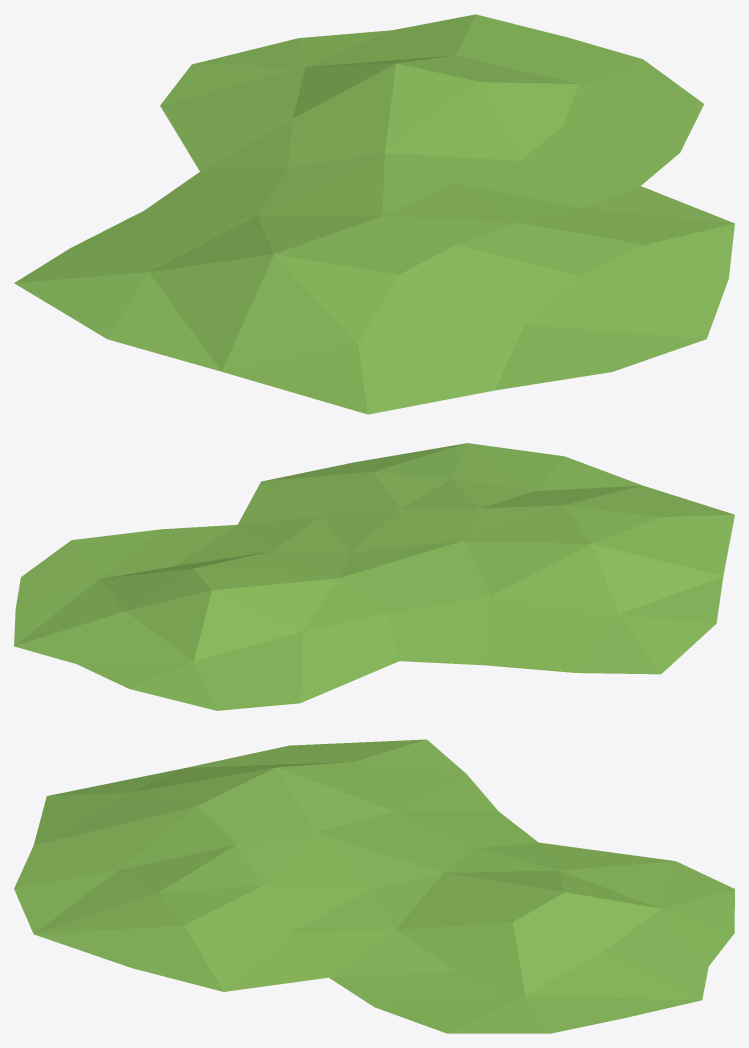
File: MT_Mountain_S_a_06_LOD.fbx
The picture shows the model from 3 angles, top to bottom: view 1: azimuth 30°, elevation 25°; view 2: azimuth 150°, elevation 25°; view 3: azimuth 270°, elevation 25°; orthographic projection. The views are drawn at different scales.
Parts seen in each view (by area): view 1: MT_Mountain_S_a_06_LOD0; view 2: MT_Mountain_S_a_06_LOD0; view 3: MT_Mountain_S_a_06_LOD0.
Part boxes in pixels (box(x1,y1,x2,y2)): MT_Mountain_S_a_06_LOD0: box(14, 14, 734, 414); MT_Mountain_S_a_06_LOD0: box(14, 443, 734, 710); MT_Mountain_S_a_06_LOD0: box(14, 739, 734, 1033).
Size of what is drawn, in the model's own units: 2070 by 151 by 2148.
